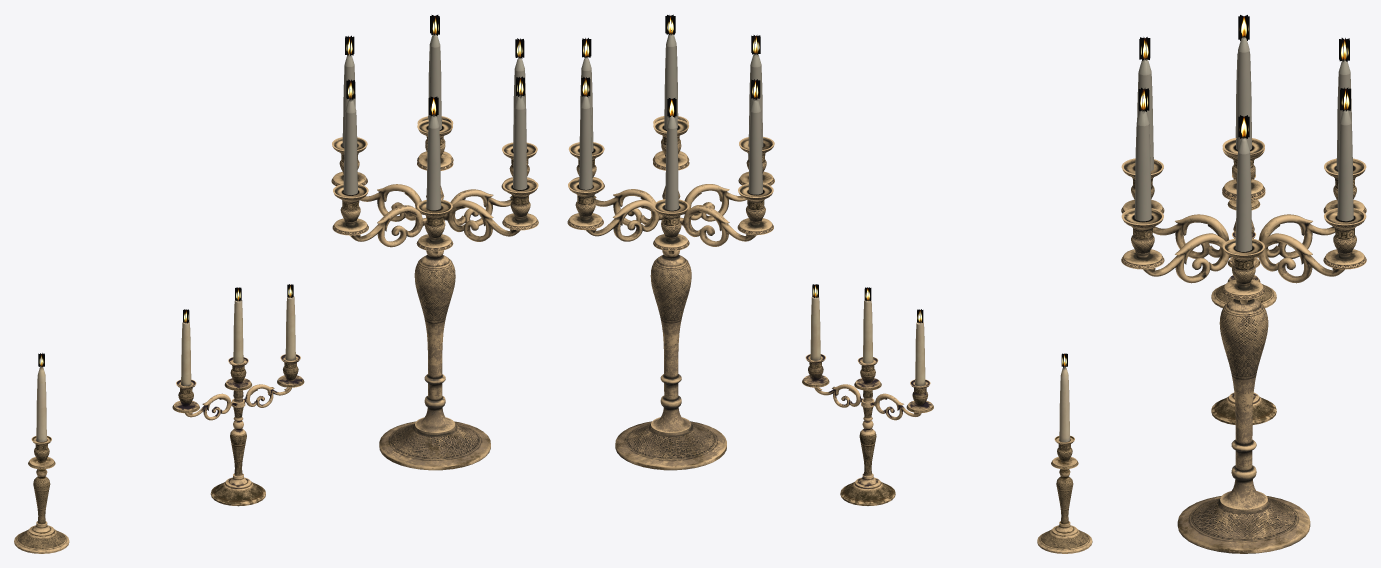
The model's file is brass_candleholders.gltf.
3 renders of one model, left to right at view 1: azimuth 30°, elevation 25°; view 2: azimuth 150°, elevation 25°; view 3: azimuth 270°, elevation 25°, orthographic. The views are drawn at different scales.
Visible parts, largest first — view 1: brass_candleholder_03, brass_candleholder_02, brass_candleholder_01; view 2: brass_candleholder_03, brass_candleholder_02, brass_candleholder_01; view 3: brass_candleholder_03, brass_candleholder_02, brass_candleholder_01.
Boxes of the visible parts, x1=… form: brass_candleholder_03: x1=331, y1=15, x2=538, y2=470; brass_candleholder_02: x1=172, y1=284, x2=304, y2=506; brass_candleholder_01: x1=14, y1=353, x2=69, y2=553; brass_candleholder_03: x1=567, y1=14, x2=774, y2=470; brass_candleholder_02: x1=802, y1=284, x2=933, y2=505; brass_candleholder_01: x1=1037, y1=353, x2=1092, y2=553; brass_candleholder_03: x1=1121, y1=15, x2=1366, y2=553; brass_candleholder_02: x1=1211, y1=232, x2=1276, y2=424; brass_candleholder_01: x1=1211, y1=174, x2=1276, y2=307.
Bounding box in the file's own units: 1.05 × 0.8353 × 0.3647.
5 materials, 5 textured.
